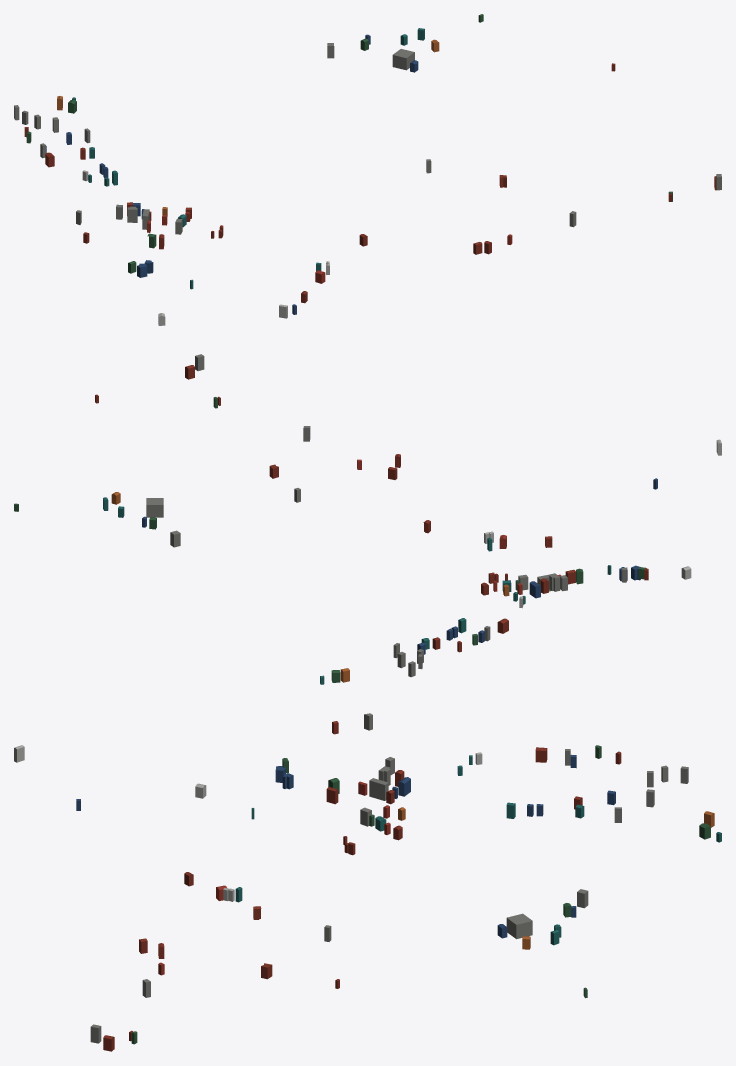
File: near-15-27359-14859.6fbbf26d.glb
The picture shows the model from 3 angles, top to bottom: view 1: azimuth 30°, elevation 25°; view 2: azimuth 150°, elevation 25°; view 3: azimuth 270°, elevation 25°; orthographic projection. The views are drawn at different scales.
Bounding box in the file's own units: 1080 × 193 × 1035.
